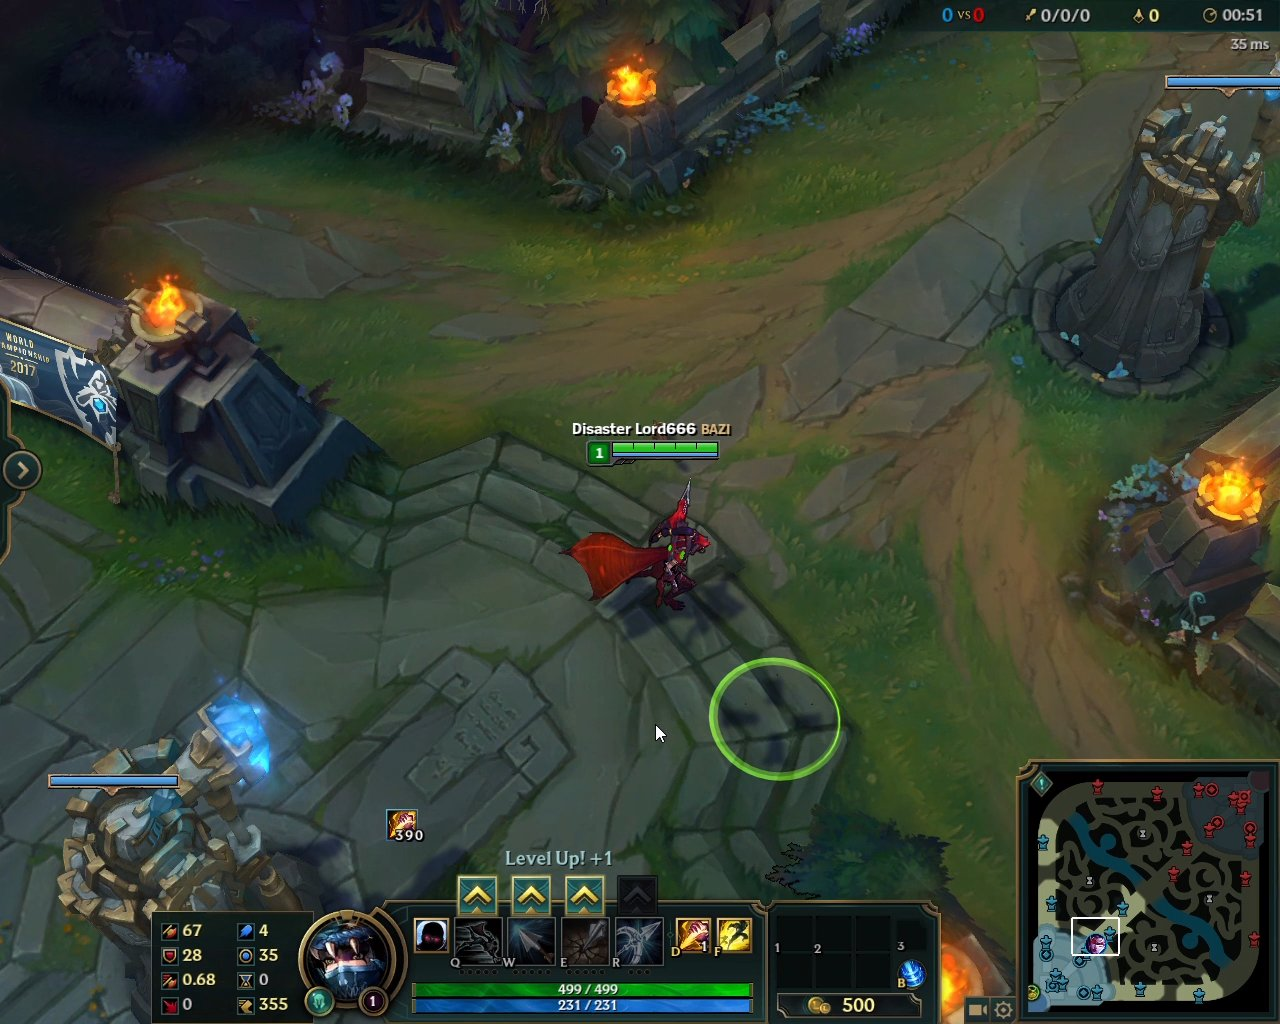Vayne: (556, 478, 723, 616)
